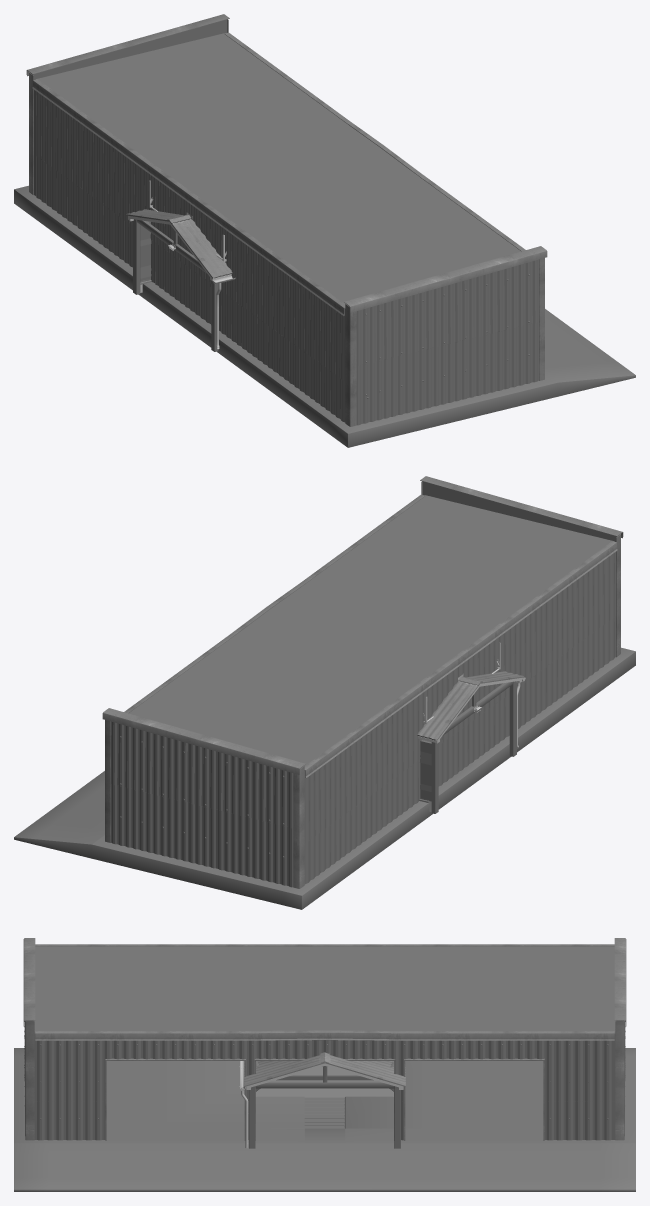
Rendered from Garage.fbx.
The picture shows the model from 3 angles, top to bottom: view 1: azimuth 30°, elevation 25°; view 2: azimuth 150°, elevation 25°; view 3: azimuth 270°, elevation 25°; orthographic projection. The views are drawn at different scales.
Visible parts, largest first — view 1: SM_Garage_Top_LOD0, SM_Garage_wall_04_LOD0, SM_Garage_wall_03_LOD0, SM_Garage_Floor_LOD0, SM_Garage_wall_02_LOD0, SM_Garage_01_LOD0, SM_Garage_01_Roof_LOD0, SM_Garage_wall_01_LOD0; view 2: SM_Garage_Top_LOD0, SM_Garage_wall_04_LOD0, SM_Garage_wall_02_LOD0, SM_Garage_Floor_LOD0, SM_Garage_wall_03_LOD0, SM_Garage_01_LOD0, SM_Garage_01_Roof_LOD0, SM_Garage_wall_01_LOD0; view 3: SM_Garage_Floor_LOD0, SM_Garage_Top_LOD0, SM_Garage_wall_01_LOD0, SM_Garage_01_Roof_LOD0, SM_Garage_wall_02_LOD0, SM_Garage_wall_03_LOD0, SM_Garage_01_LOD0, SM_Garage_wall_04_LOD0, SM_GarageDoor_01_LOD0, SM_Garage_02_LOD0.
Part boxes in pixels (bbox=[...]): SM_Garage_Top_LOD0: bbox=[35, 33, 520, 303]; SM_Garage_wall_04_LOD0: bbox=[32, 79, 368, 422]; SM_Garage_wall_03_LOD0: bbox=[344, 246, 547, 426]; SM_Garage_Floor_LOD0: bbox=[14, 185, 635, 447]; SM_Garage_wall_02_LOD0: bbox=[26, 14, 229, 195]; SM_Garage_01_LOD0: bbox=[133, 219, 235, 351]; SM_Garage_01_Roof_LOD0: bbox=[126, 209, 232, 281]; SM_Garage_wall_01_LOD0: bbox=[224, 32, 525, 251]; SM_Garage_Top_LOD0: bbox=[129, 495, 614, 765]; SM_Garage_wall_04_LOD0: bbox=[304, 541, 617, 884]; SM_Garage_wall_02_LOD0: bbox=[102, 708, 305, 888]; SM_Garage_Floor_LOD0: bbox=[14, 647, 635, 909]; SM_Garage_wall_03_LOD0: bbox=[420, 476, 623, 657]; SM_Garage_01_LOD0: bbox=[419, 677, 525, 813]; SM_Garage_01_Roof_LOD0: bbox=[417, 671, 523, 743]; SM_Garage_wall_01_LOD0: bbox=[124, 494, 425, 713]; SM_Garage_Floor_LOD0: bbox=[14, 1048, 635, 1191]; SM_Garage_Top_LOD0: bbox=[34, 946, 615, 1031]; SM_Garage_wall_01_LOD0: bbox=[34, 1030, 615, 1140]; SM_Garage_01_Roof_LOD0: bbox=[244, 1052, 405, 1089]; SM_Garage_wall_02_LOD0: bbox=[614, 938, 626, 1140]; SM_Garage_wall_03_LOD0: bbox=[23, 938, 35, 1140]; SM_Garage_01_LOD0: bbox=[239, 1061, 400, 1148]; SM_Garage_wall_04_LOD0: bbox=[24, 944, 614, 1035]; SM_GarageDoor_01_LOD0: bbox=[256, 1067, 393, 1097]; SM_Garage_02_LOD0: bbox=[256, 1061, 405, 1091].
Size of what is drawn, in the model's own units: 1079 by 495 by 2083.
